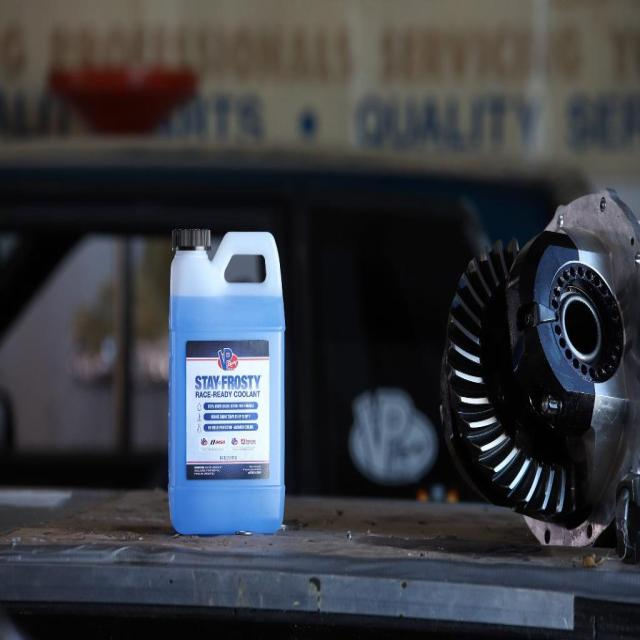coolant: (166, 222, 287, 533)
